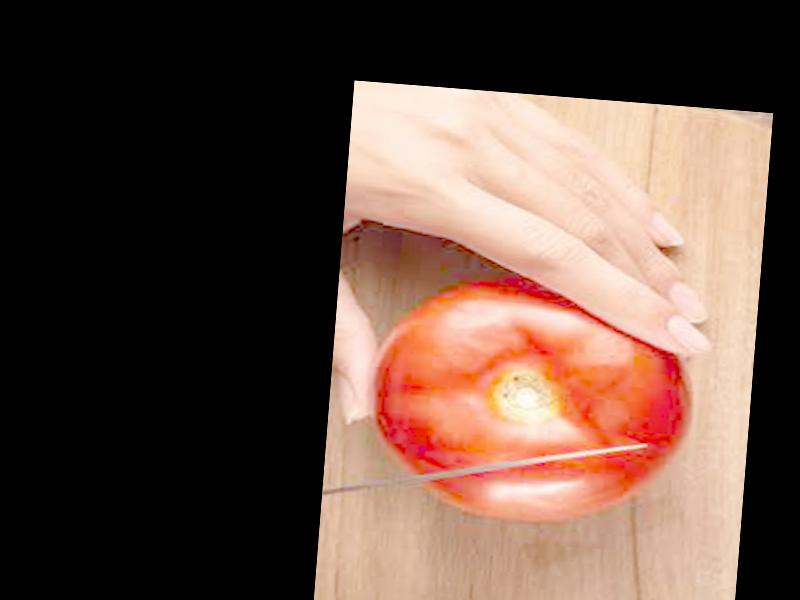Tomato: (366, 264, 698, 527)
